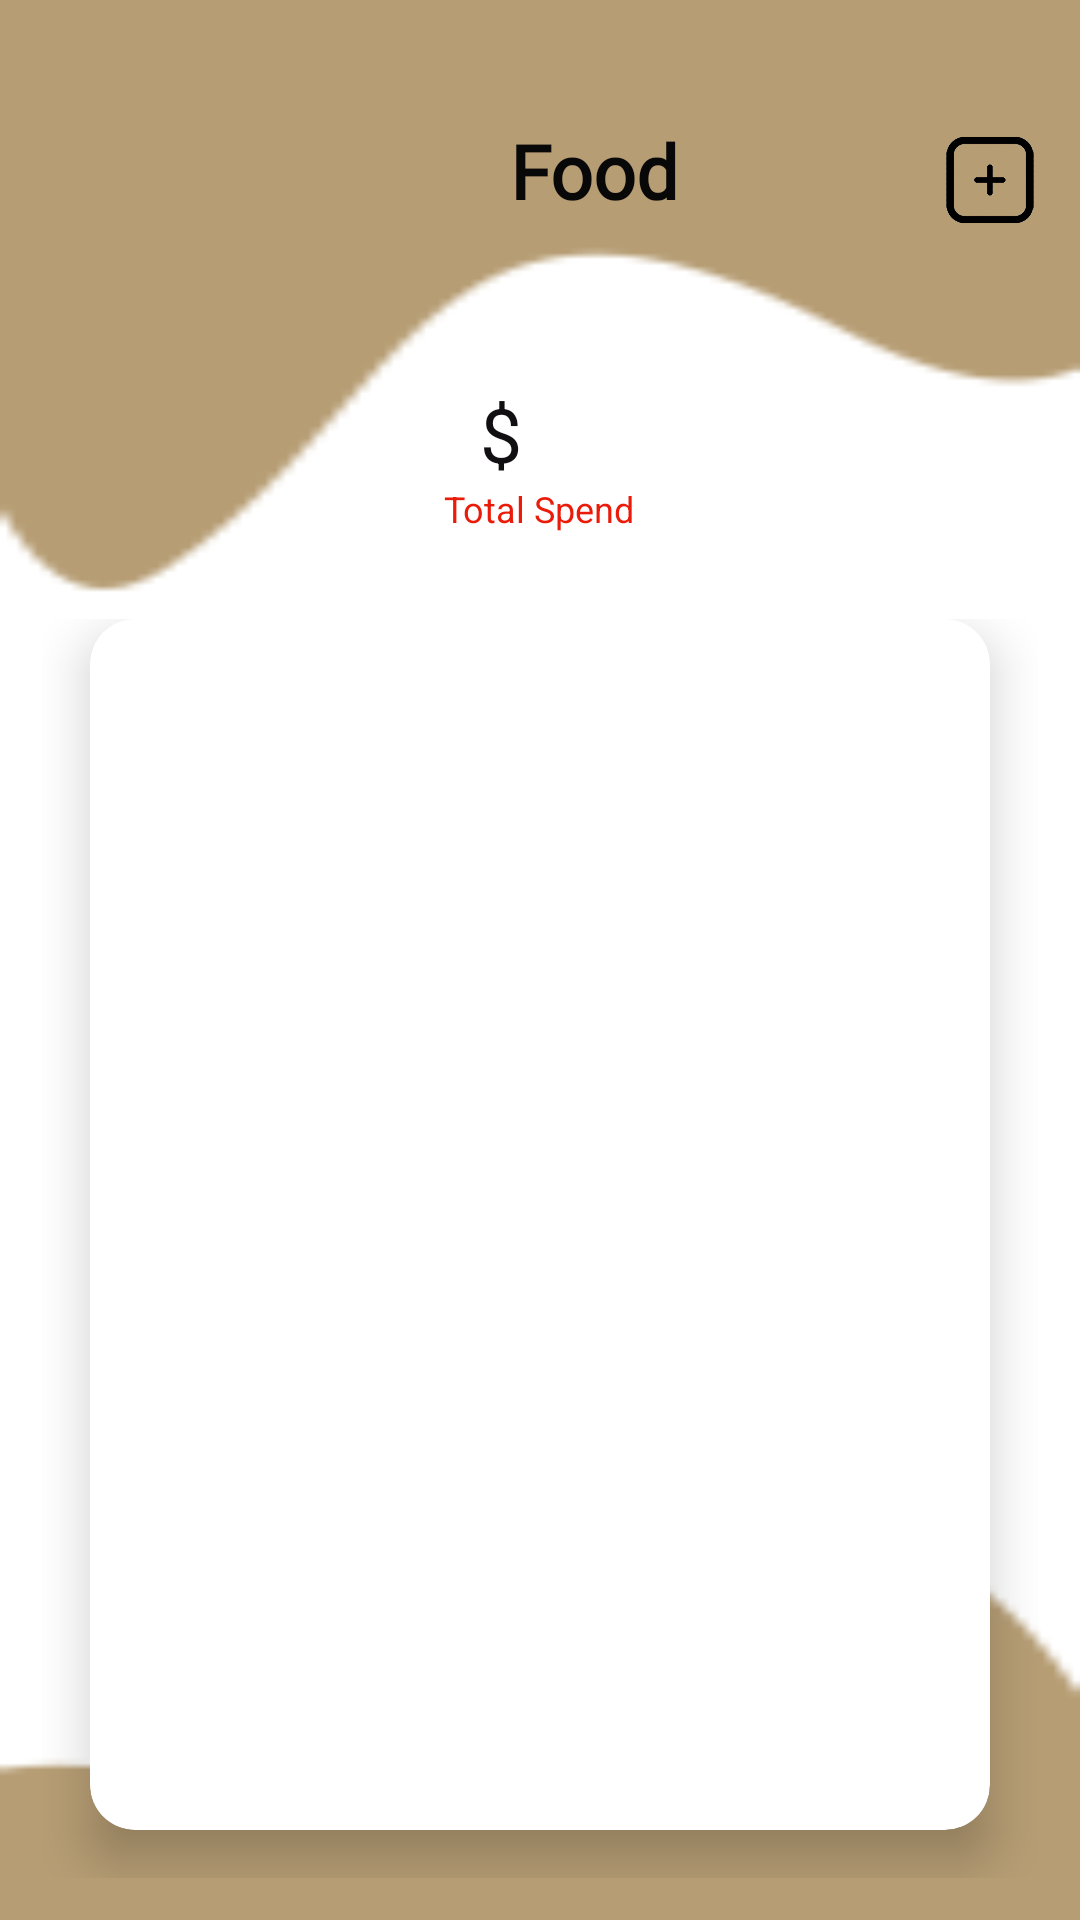

Icon click points for this 1080×1920 phone screenshot, format point (x, y):
addbutton: point (990, 180)
